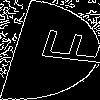E: (25, 25, 100, 67)
